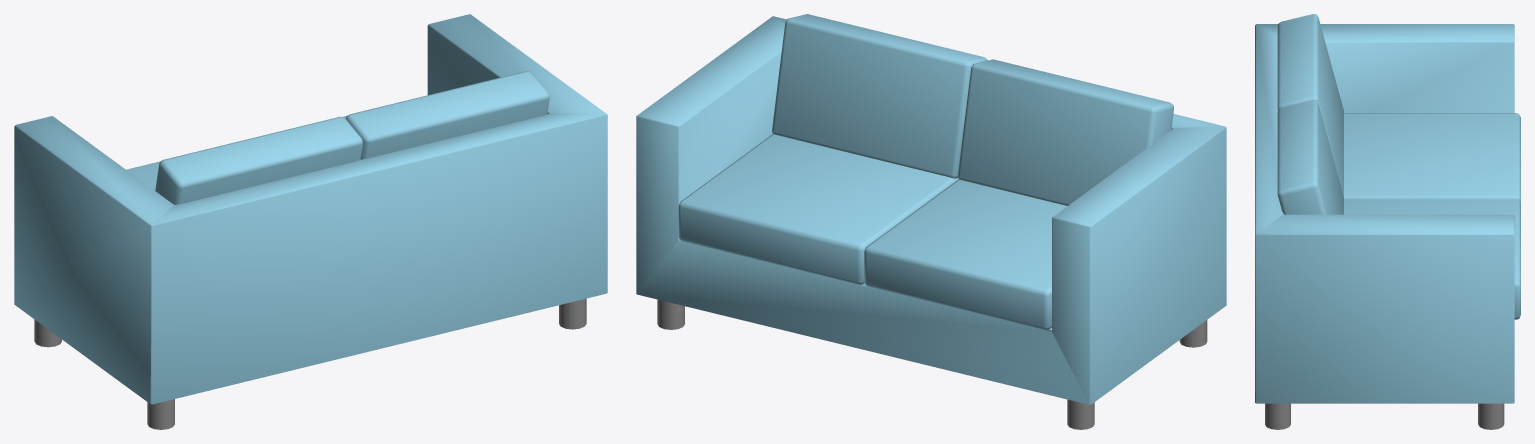
File: FURNITURE_couch_01.FBX
The picture shows the model from 3 angles, left to right: view 1: azimuth 30°, elevation 25°; view 2: azimuth 150°, elevation 25°; view 3: azimuth 270°, elevation 25°; orthographic projection. The views are drawn at different scales.
Visible parts, largest first — view 1: FURNITURE_chair_004; view 2: FURNITURE_chair_004; view 3: FURNITURE_chair_004.
Part boxes in pixels (x1,y1,x2,y2): FURNITURE_chair_004: (14,14,607,429); FURNITURE_chair_004: (636,14,1226,429); FURNITURE_chair_004: (1255,14,1520,429).
Size of the model in its own units: 221 by 113 by 118.
